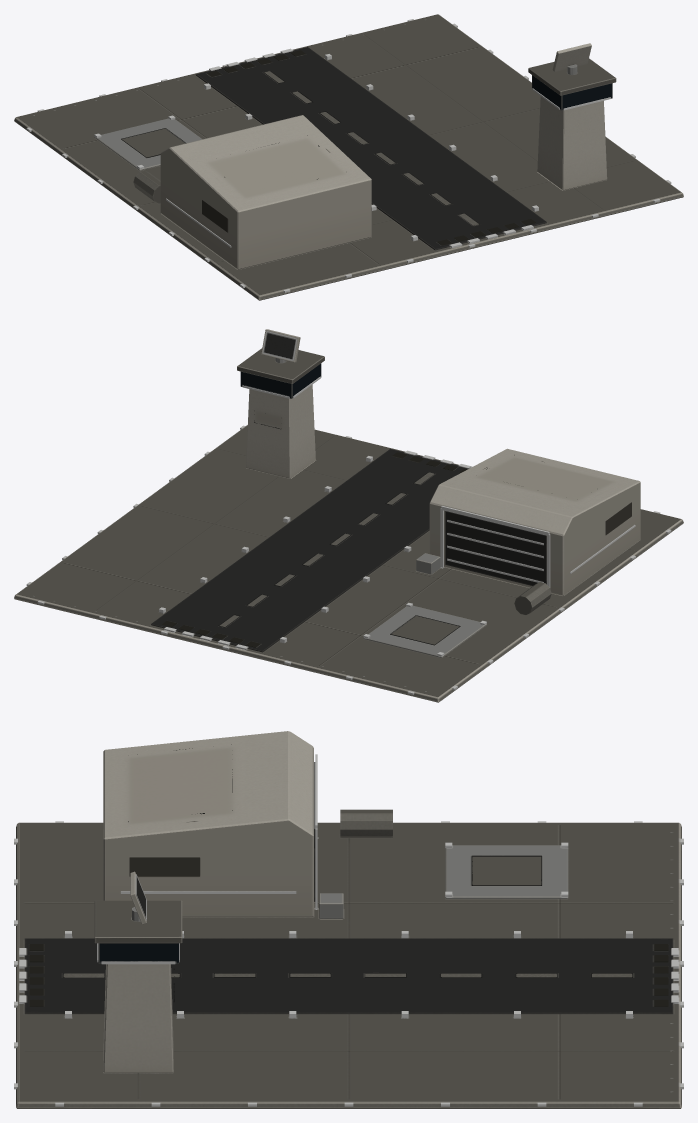
The model's file is ord_airfield.fbx.
3 views of the same model, one above another, from view 1: azimuth 30°, elevation 25°; view 2: azimuth 150°, elevation 25°; view 3: azimuth 270°, elevation 25° (orthographic). The views are drawn at different scales.
Visible parts, largest first — view 1: base_bar, base_glow_running_bar, radar_bar; view 2: base_bar, base_glow_power_bar, base_glow_running_bar, radar_bar; view 3: base_bar, base_glow_running_bar.
Part boxes in pixels (x1=…): base_bar: x1=14, y1=14, x2=683, y2=300; base_glow_running_bar: x1=26, y1=19, x2=671, y2=292; radar_bar: x1=552, y1=43, x2=591, y2=71; base_bar: x1=14, y1=348, x2=683, y2=702; base_glow_power_bar: x1=440, y1=506, x2=550, y2=587; base_glow_running_bar: x1=26, y1=376, x2=671, y2=694; radar_bar: x1=261, y1=329, x2=300, y2=362; base_bar: x1=16, y1=731, x2=681, y2=1108; base_glow_running_bar: x1=14, y1=821, x2=683, y2=1106.
Bounding box in the file's own units: 3820 × 1348 × 3820.
Materials: 2 (2 with a texture image).
